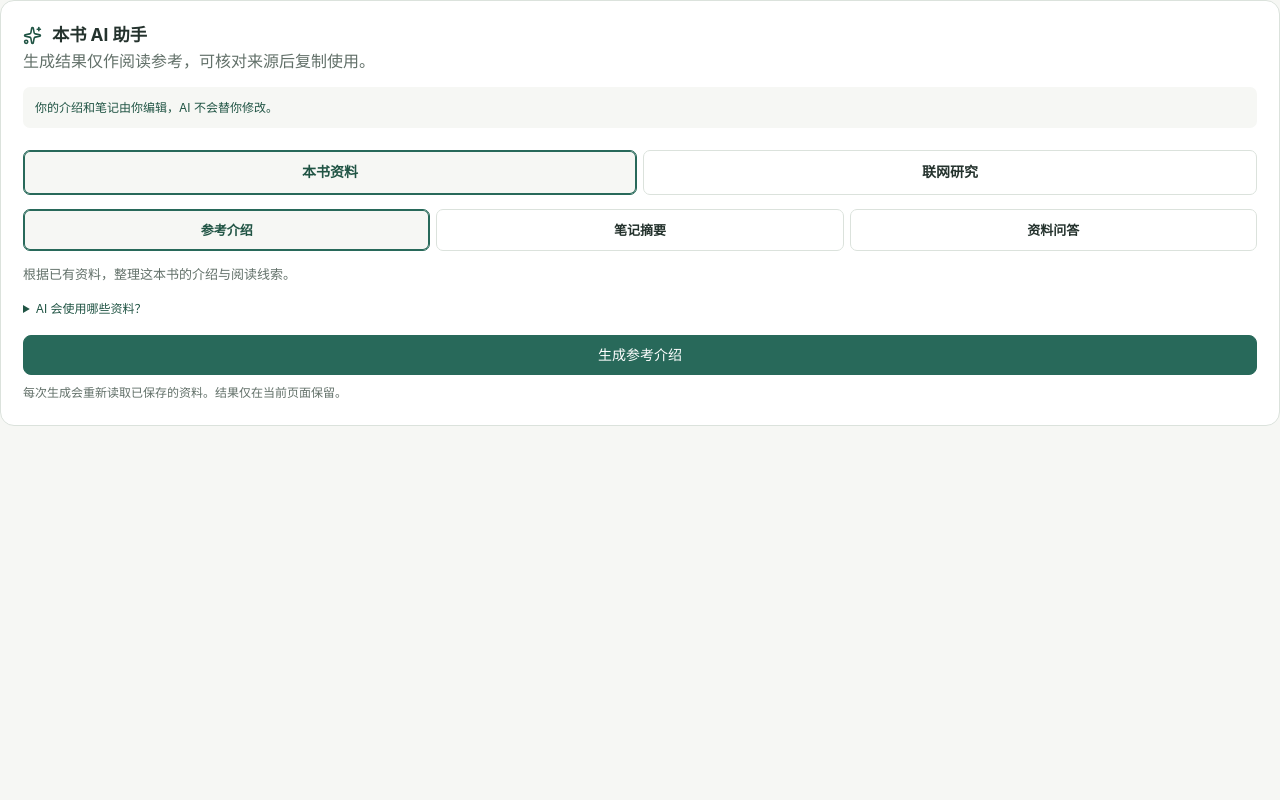
Scenario: book AI read-only sidebar › renders the returned Markdown as prose without a draft editor or a second preview
The width and height of the screenshot is (1280, 800).
Click the button "生成参考介绍": (640, 355) [23,335,1257,375]
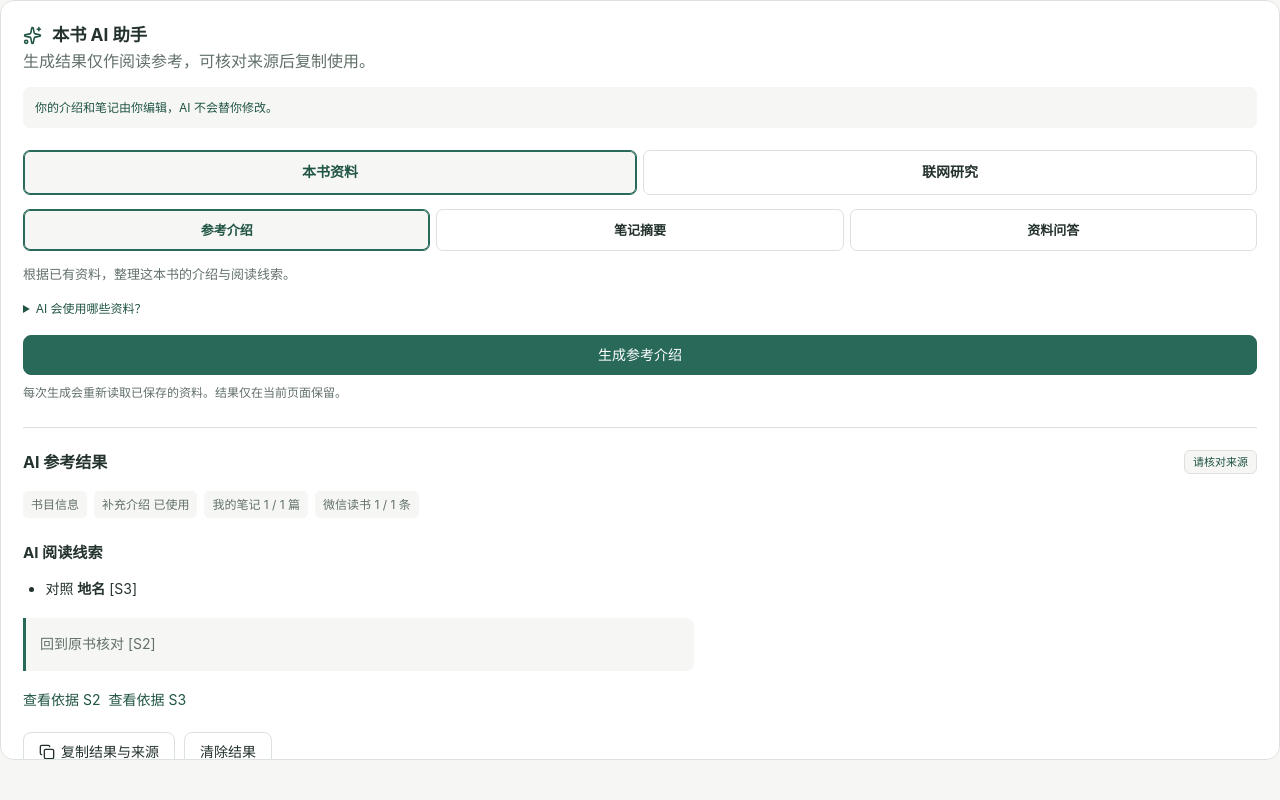
Now the heading "AI 阅读线索" is shown, box [23,543,102,562]
Now the text "地名" is shown, box [77,580,105,597]
Now the element showing "回到原书核对 [S2]" is shown, box [23,618,694,671]
